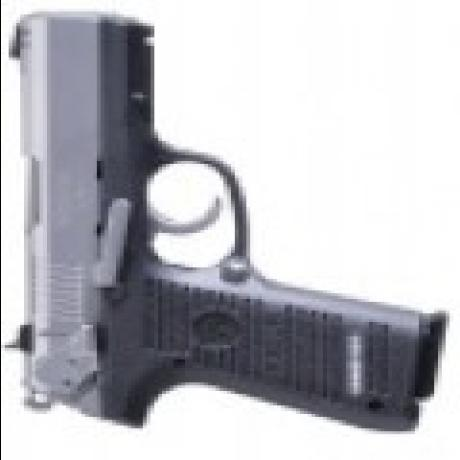weapon: (7, 14, 410, 440)
